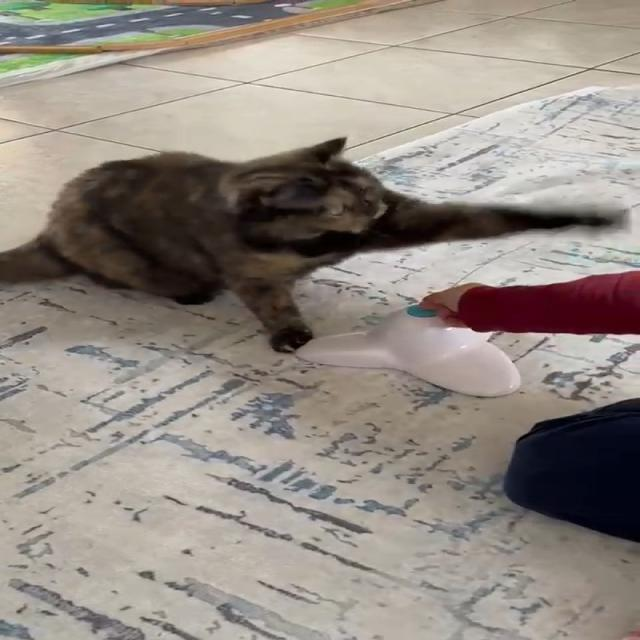authorized: (0, 135, 612, 353)
